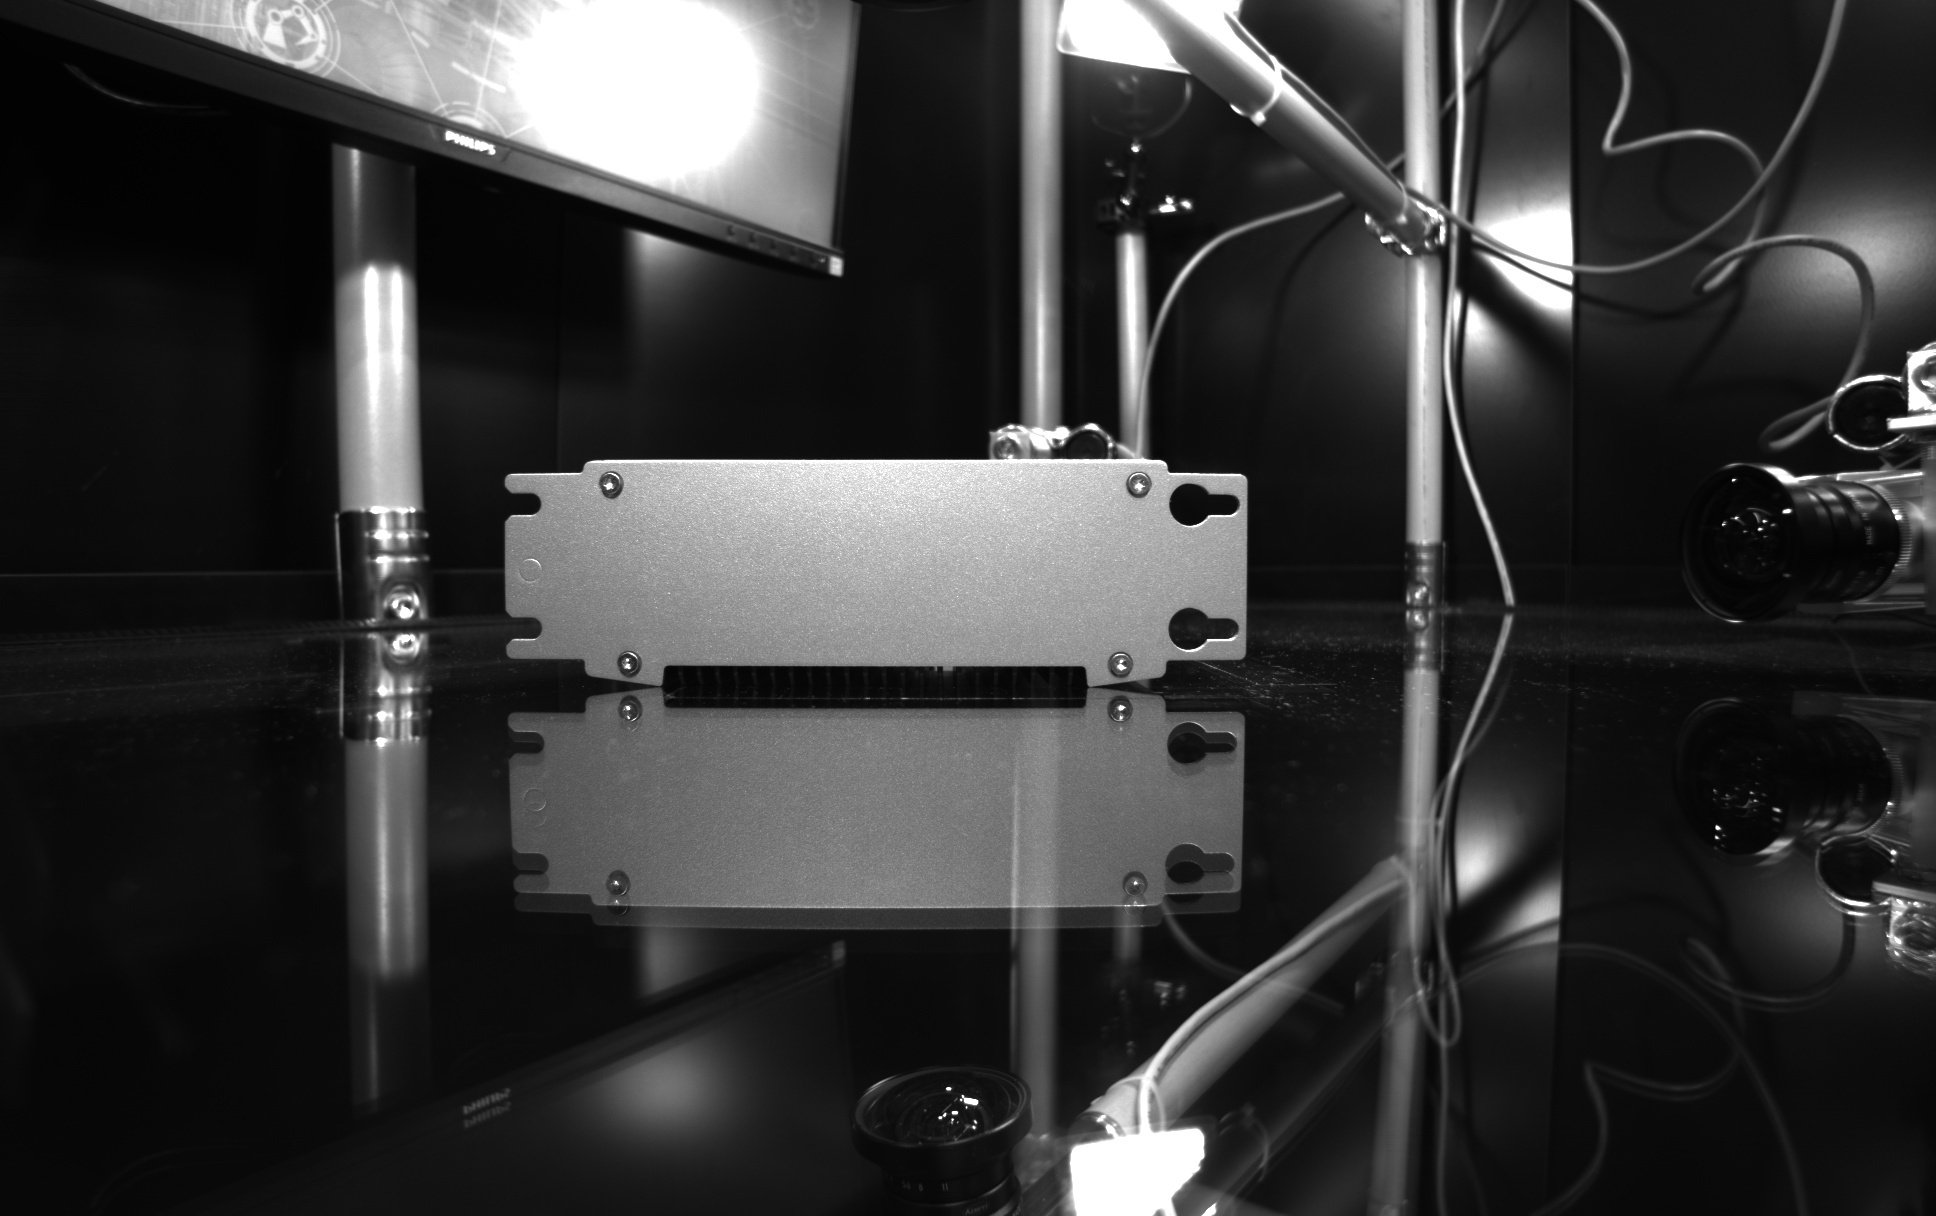CamBack: (473, 429, 1279, 685)
Schraube_halb: (591, 462, 633, 504), (609, 644, 649, 682), (1102, 644, 1140, 684), (1119, 467, 1157, 504)
